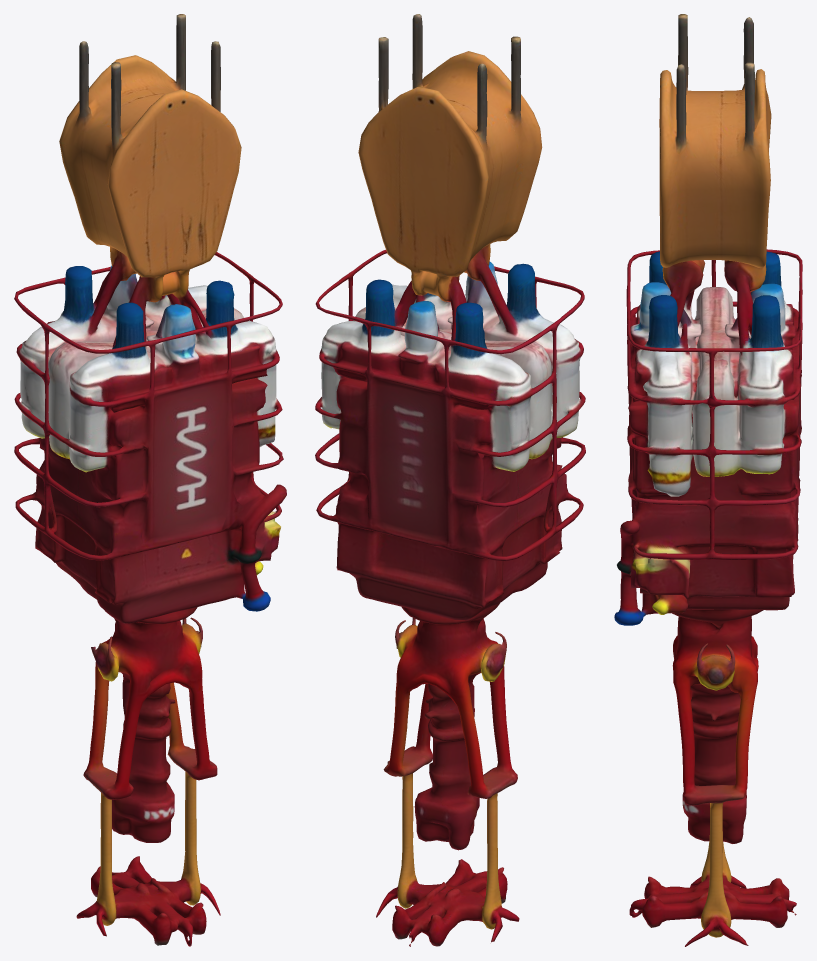
The model's file is topdrive.glb.
3 renders of one model, left to right at view 1: azimuth 30°, elevation 25°; view 2: azimuth 150°, elevation 25°; view 3: azimuth 270°, elevation 25°, orthographic.
Parts seen in each view (by area): view 1: model; view 2: model; view 3: model.
Boxes of the visible parts, x1,y1,x2,y2 form: model: (14,14,286,946); model: (315,14,585,946); model: (614,14,802,946).
Size of the model in its own units: 0.4666 by 1.89 by 0.3656.
1 material, 1 textured.
